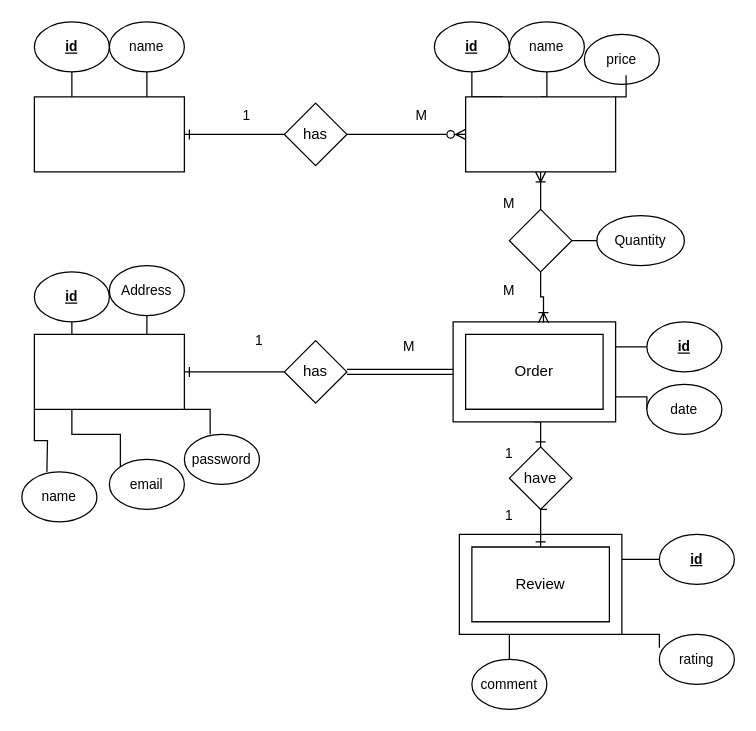
This 756x731 diagram has some shape labels left out. Each missing label, with the centre of its shape:
"Category" goes at (108,134).
"contain" goes at (540,240).
"Product" goes at (540,134).
"User" goes at (108,371).
